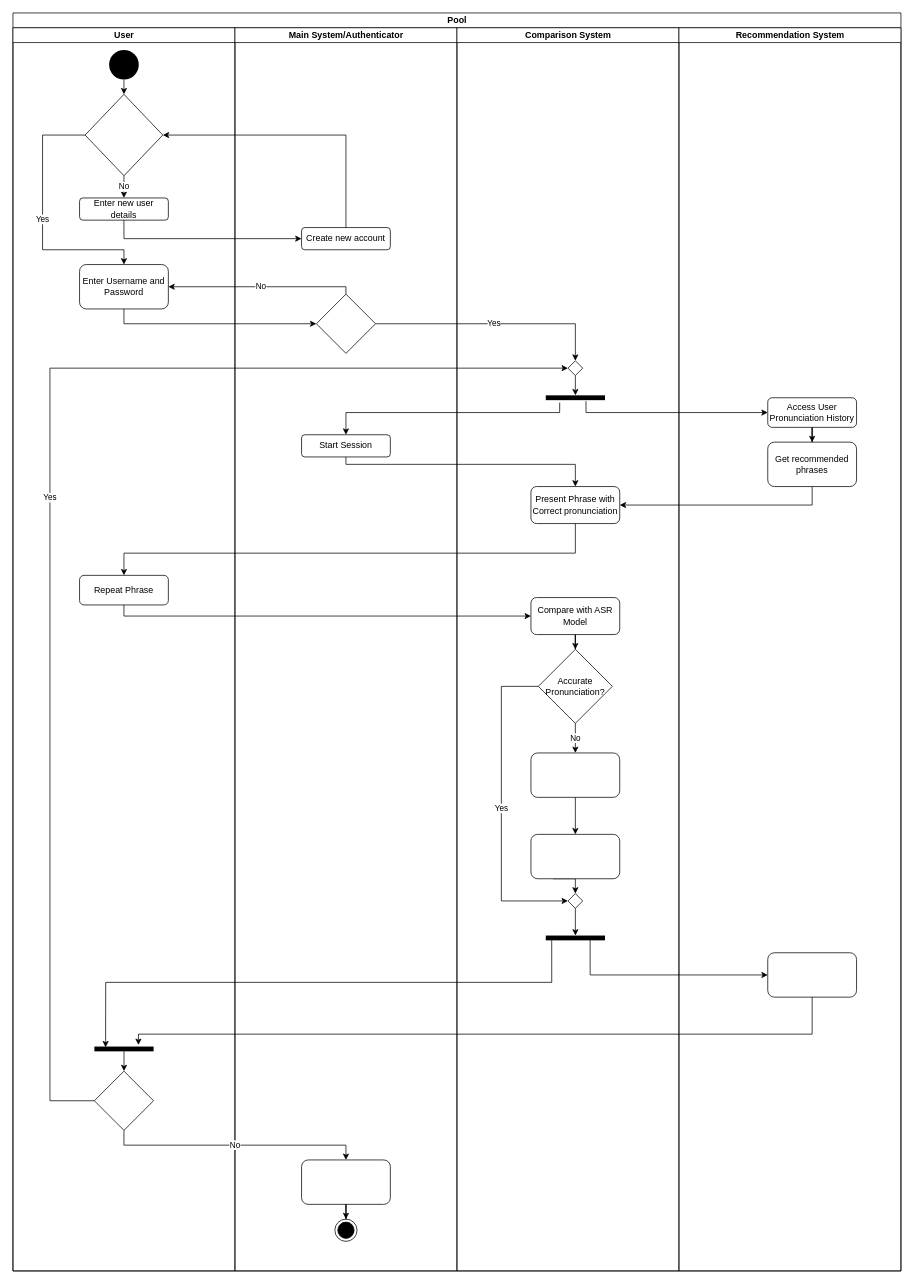
Image size: 914x1284. Some labels were removed from this diagram. Here are the shapes that lost their labels. From the top down, the centre of each, then its label:
At (123,135): "Existing User?".
At (346,323): "Correct Details?".
At (575,774): "Compare incorrectly pronounced phonemes with accurate phonemes".
At (575,856): "Present Immediate Corrections".
At (812,974): "Add to user pronunciation history".
At (124,1100): "Continue Session?".
At (345,1181): "Close System".
